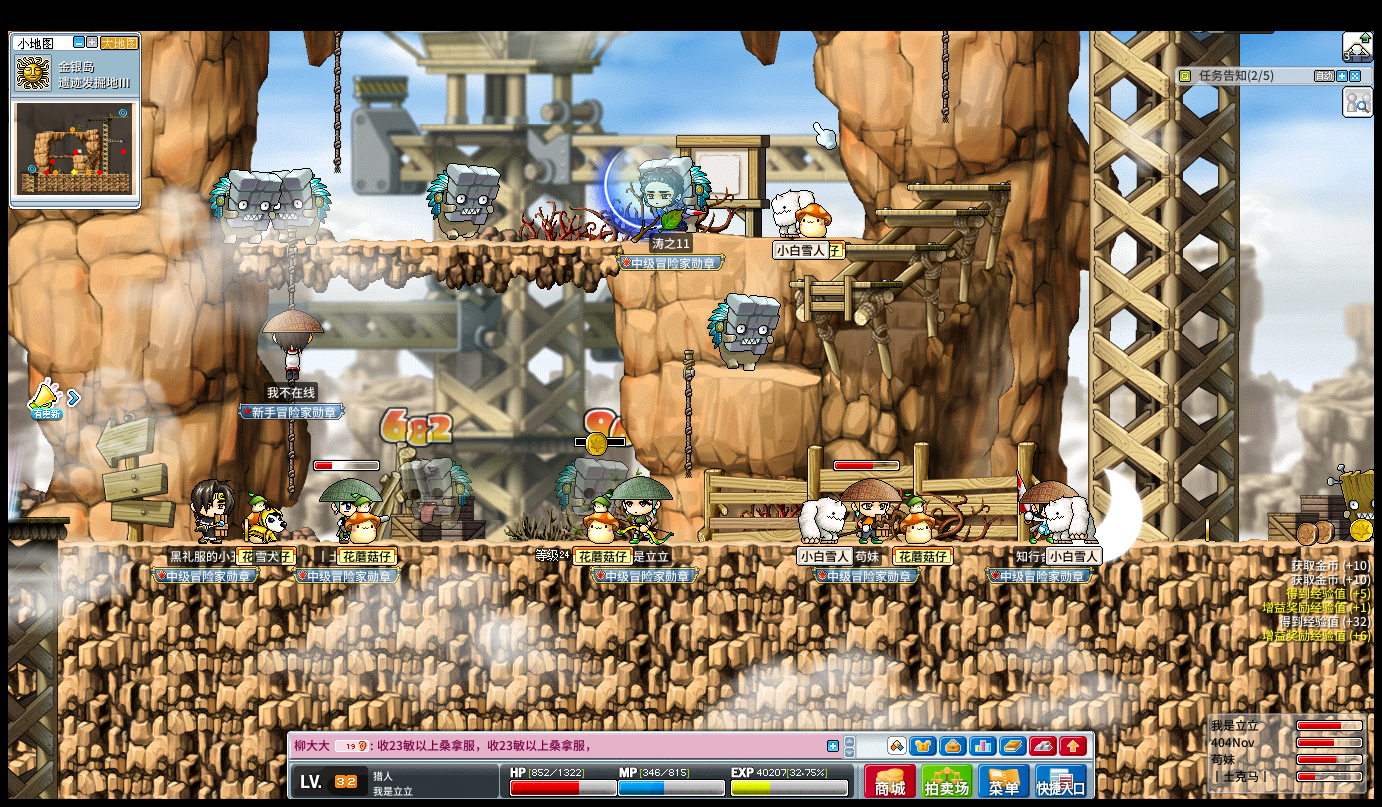floor: (58, 538, 1373, 552), (245, 238, 621, 250), (714, 364, 823, 388), (747, 234, 899, 241), (869, 207, 984, 216), (840, 242, 950, 250), (789, 281, 898, 289), (906, 184, 1011, 191), (906, 183, 1008, 190), (7, 515, 70, 524)
monster: (424, 163, 501, 242), (706, 292, 781, 371), (405, 456, 472, 543), (207, 169, 279, 245), (272, 167, 333, 244), (1329, 462, 1380, 540), (555, 457, 625, 507)
rope: (682, 348, 694, 481), (332, 31, 341, 180), (284, 234, 297, 311), (284, 420, 295, 508), (940, 31, 949, 123)
